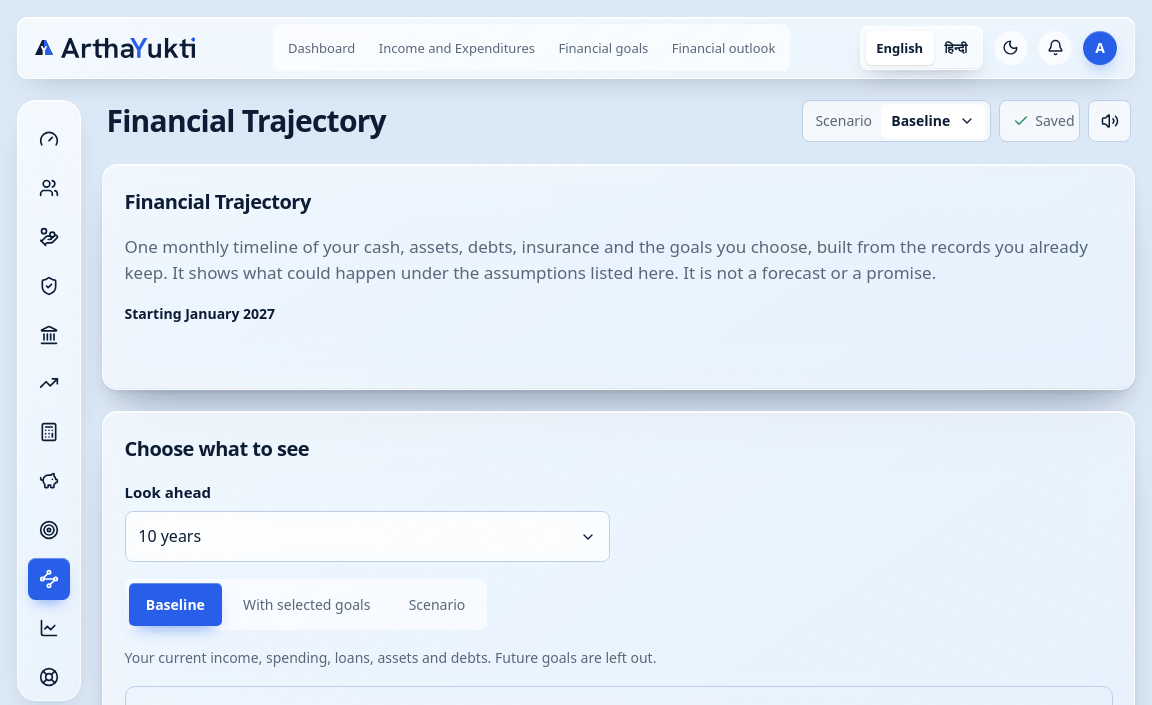
Test: the Financial Trajectory tab › shows no figures while it calculates, and never an earlier answer for new choices
The width and height of the screenshot is (1152, 705).
Click the dropdown named "Look ahead".
click(170, 536)  # box [124, 511, 610, 562]
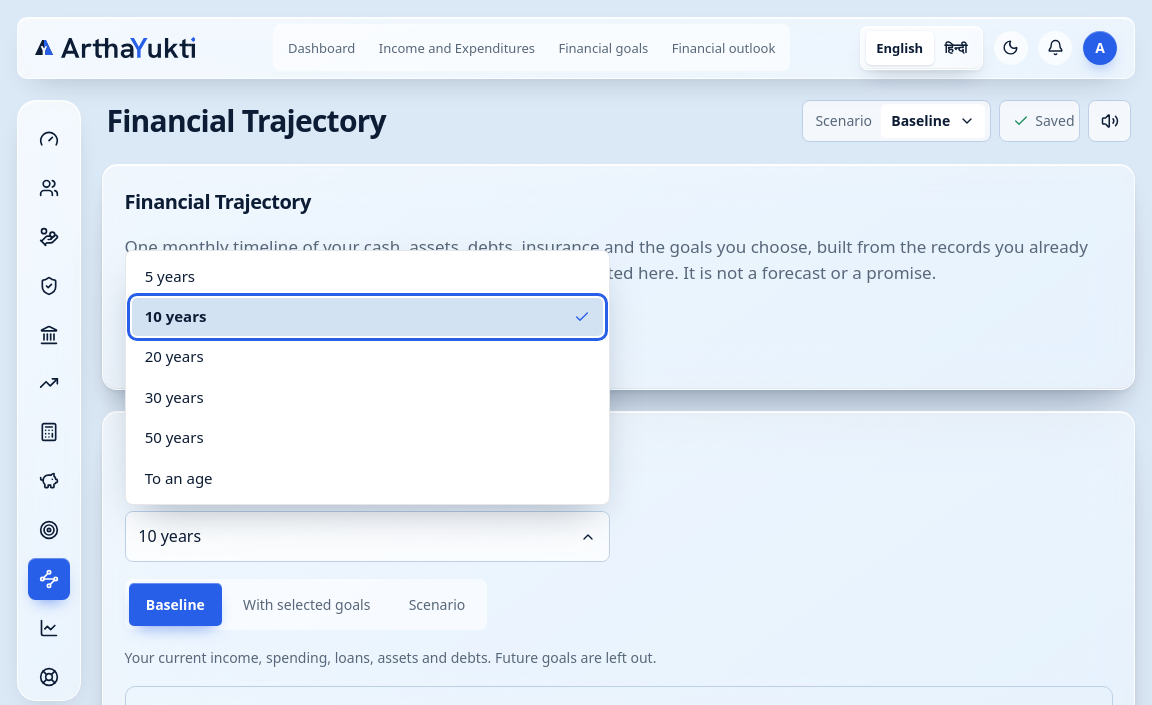
Click the option "20 years".
click(174, 356)  # box [132, 338, 603, 376]
(page scrolled)
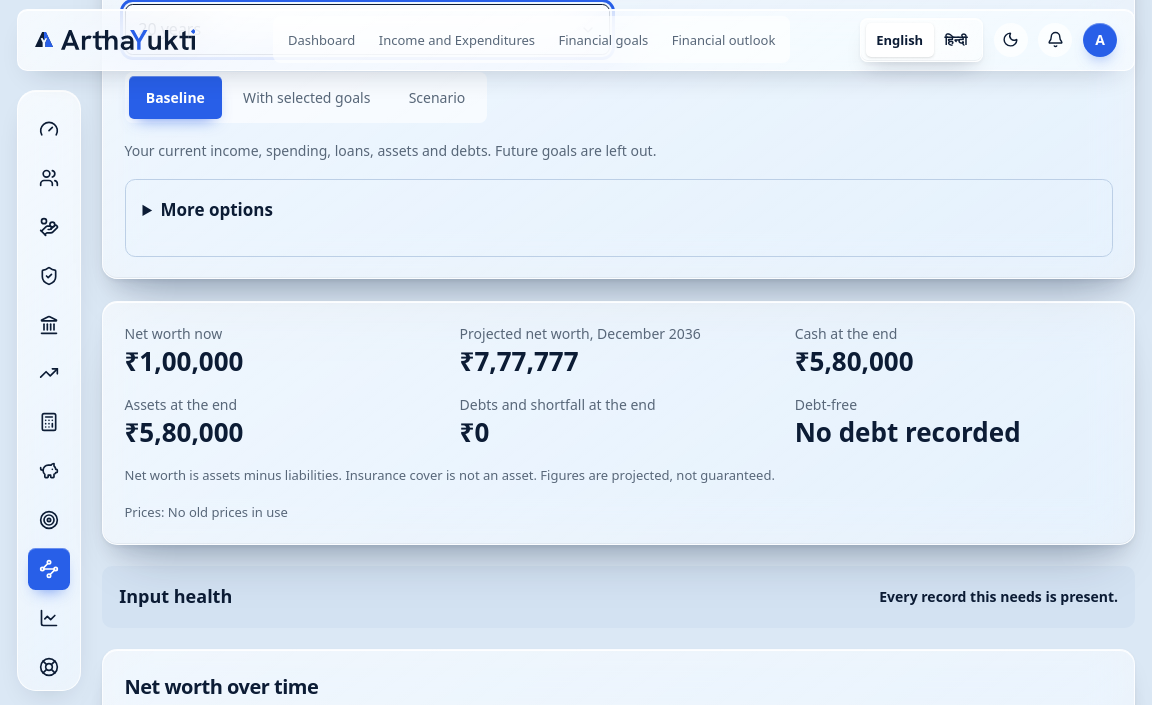
Expected: the text "₹7,77,777" is shown, [460, 343, 578, 379]
